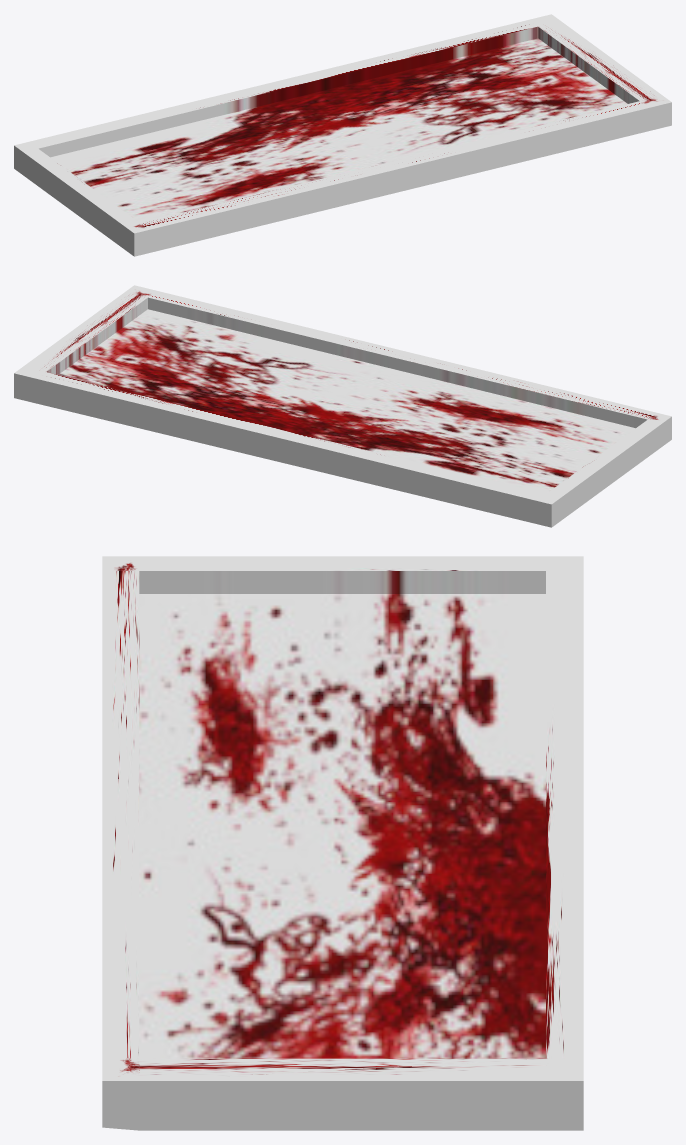
File: PIATTO DOCCIA.fbx
3 views of the same model, one above another, from view 1: azimuth 30°, elevation 25°; view 2: azimuth 150°, elevation 25°; view 3: azimuth 270°, elevation 25° (orthographic). The views are drawn at different scales.
Visible parts, largest first — view 1: Cube; view 2: Cube; view 3: Cube.
Boxes of the visible parts, x1,y1,x2,y2 form: Cube: (14,14,671,256); Cube: (14,285,671,527); Cube: (102,556,583,1130).
Bounding box in the file's own units: 2.45 × 0.108 × 0.951.
1 material, 1 textured.
